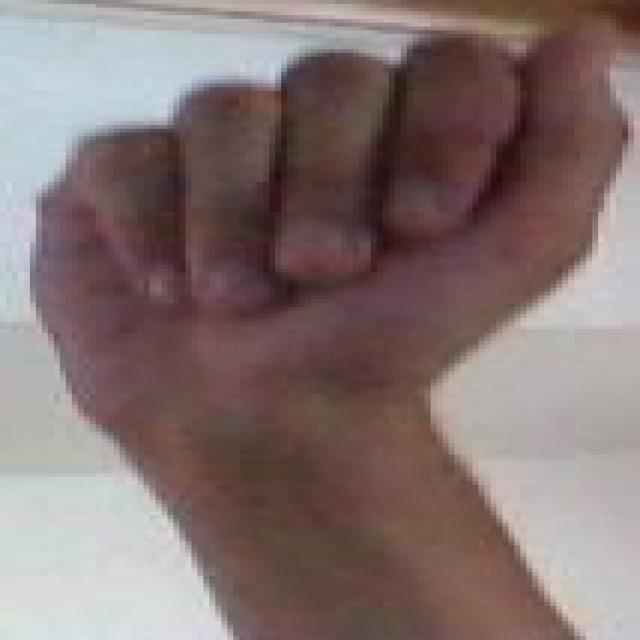A: (29, 7, 635, 402)
